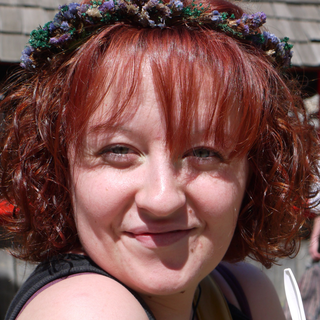eye: (94, 141, 143, 166), (180, 143, 226, 167)
